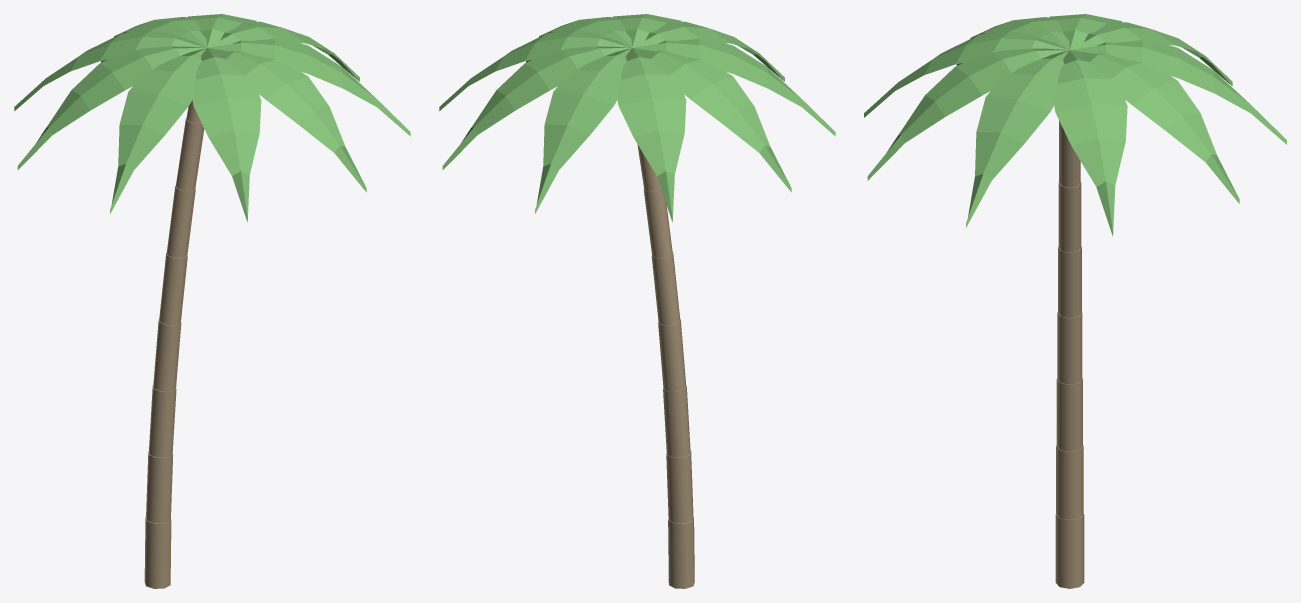
Rendered from palm.glb.
3 views of the same model, side by side, from view 1: azimuth 30°, elevation 25°; view 2: azimuth 150°, elevation 25°; view 3: azimuth 270°, elevation 25° (orthographic). The views are drawn at different scales.
Parts seen in each view (by area): view 1: Palm; view 2: Palm; view 3: Palm.
Part boxes in pixels (box(x1,y1,x2,y2)): Palm: box(14, 14, 410, 588); Palm: box(439, 14, 835, 588); Palm: box(864, 14, 1286, 588).
Bounding box in the file's own units: 6.3 × 9.17 × 6.23.
